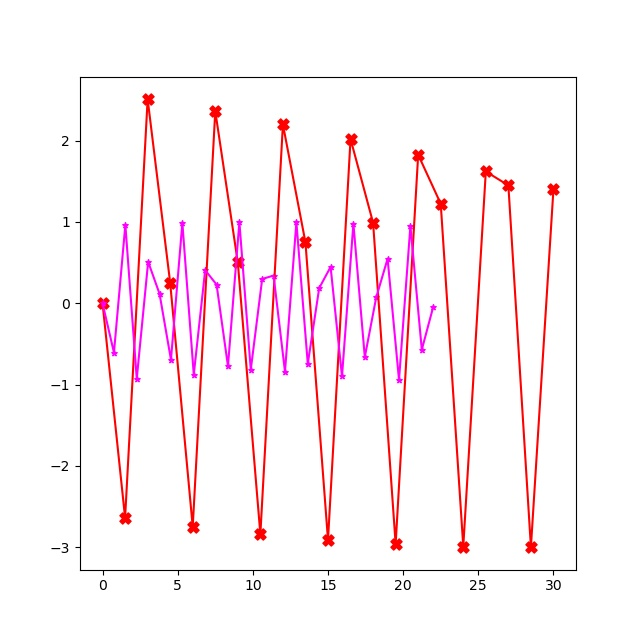Cross: (97, 297, 110, 310), (119, 512, 132, 525), (142, 93, 155, 106), (164, 277, 177, 290), (187, 521, 200, 534), (209, 105, 222, 118), (232, 256, 245, 269), (254, 528, 267, 541), (277, 118, 290, 131), (299, 236, 312, 249), (322, 534, 335, 547), (345, 133, 358, 146), (367, 217, 380, 230), (390, 538, 403, 551), (412, 149, 425, 162), (435, 198, 448, 211), (457, 541, 470, 554), (480, 165, 493, 178), (502, 179, 515, 192), (525, 541, 538, 554), (547, 183, 560, 196)
star: (99, 299, 108, 308), (110, 349, 119, 358), (121, 221, 130, 230), (133, 375, 142, 384), (144, 258, 153, 267), (156, 290, 165, 299), (167, 356, 176, 365), (178, 219, 187, 228), (190, 371, 199, 380), (201, 266, 210, 275), (213, 281, 222, 290), (224, 362, 233, 371), (235, 218, 244, 227), (247, 366, 256, 375), (258, 275, 267, 284), (270, 272, 279, 281), (281, 368, 290, 377), (292, 218, 301, 227), (304, 360, 313, 369), (315, 284, 324, 293), (327, 263, 336, 272), (338, 372, 347, 381), (349, 220, 358, 229), (361, 353, 370, 362), (372, 293, 381, 302), (384, 255, 393, 264), (395, 376, 404, 385), (406, 222, 415, 231), (418, 346, 427, 355), (429, 303, 438, 312)
